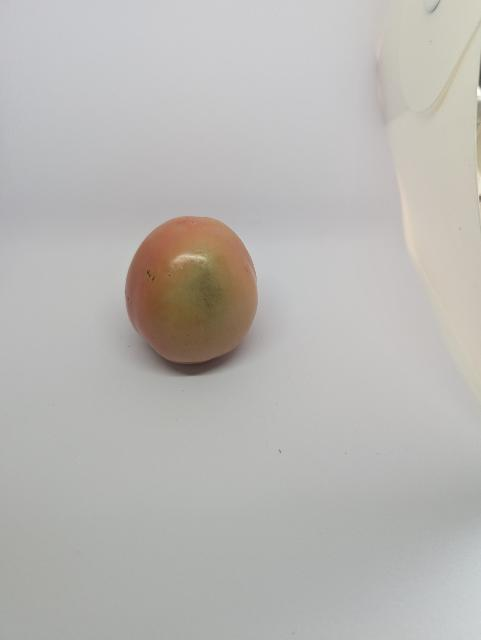turning: (117, 212, 276, 377)
